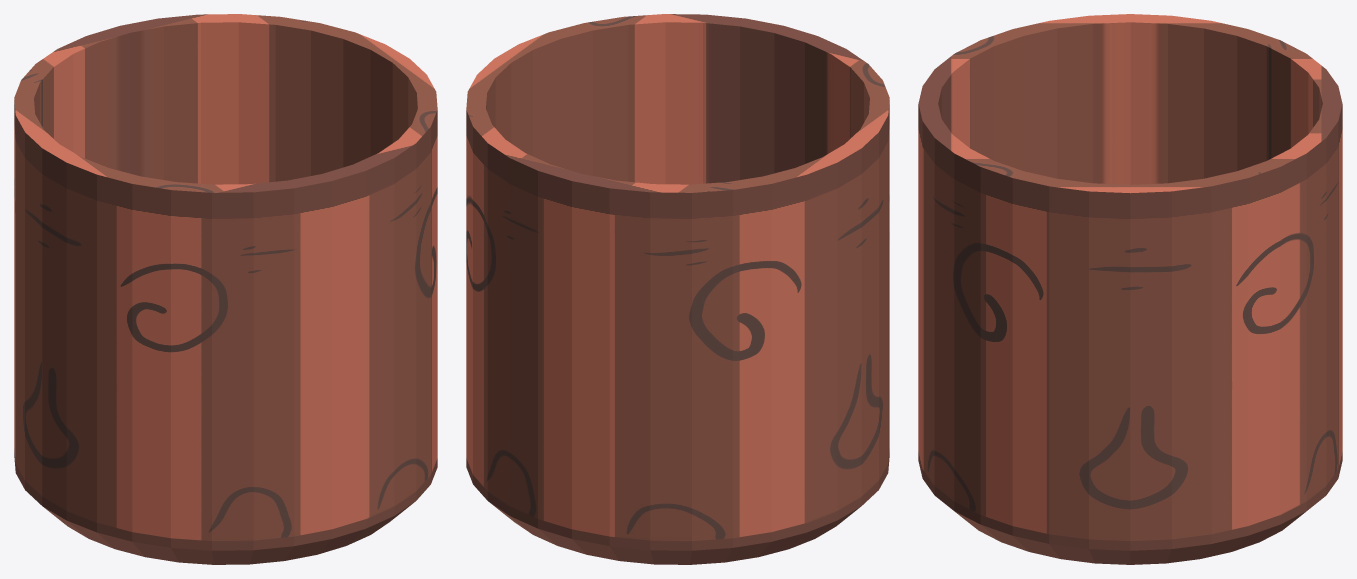
File: ataito-bucket.glb
The picture shows the model from 3 angles, left to right: view 1: azimuth 30°, elevation 25°; view 2: azimuth 150°, elevation 25°; view 3: azimuth 270°, elevation 25°; orthographic projection.
Parts seen in each view (by area): view 1: Cylinder; view 2: Cylinder; view 3: Cylinder.
Boxes of the visible parts, bbox=[...] form: Cylinder: bbox=[14, 14, 437, 564]; Cylinder: bbox=[466, 14, 889, 564]; Cylinder: bbox=[918, 14, 1342, 564].
Bounding box in the file's own units: 2 × 2 × 2.
1 material, 1 textured.
